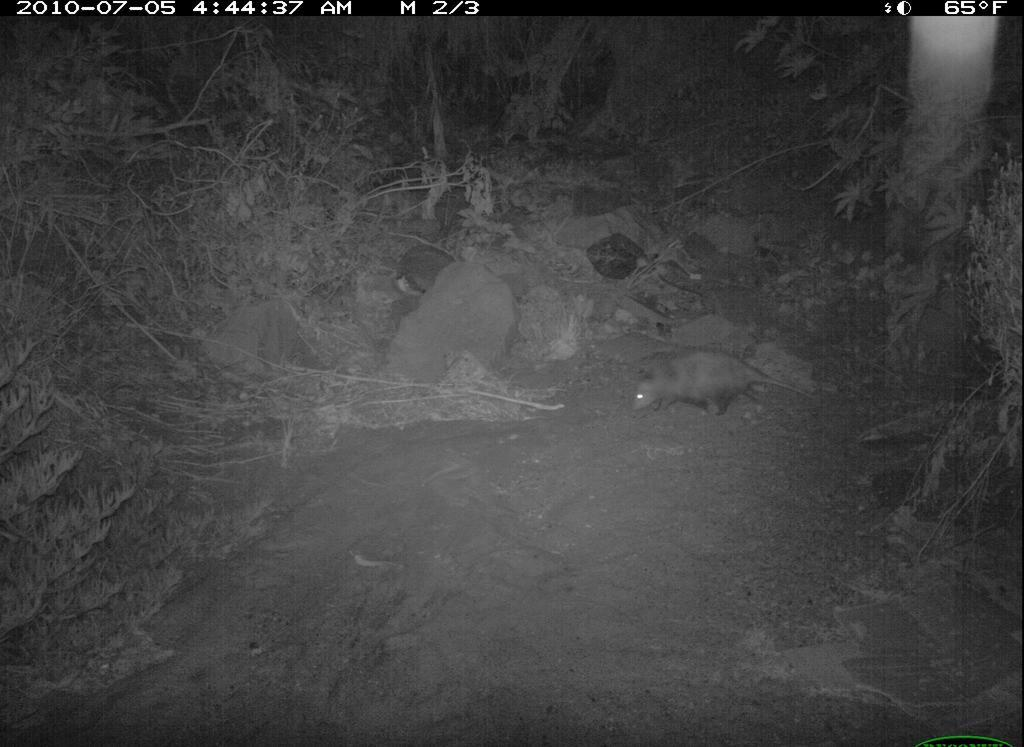opossum: (617, 341, 841, 457)
